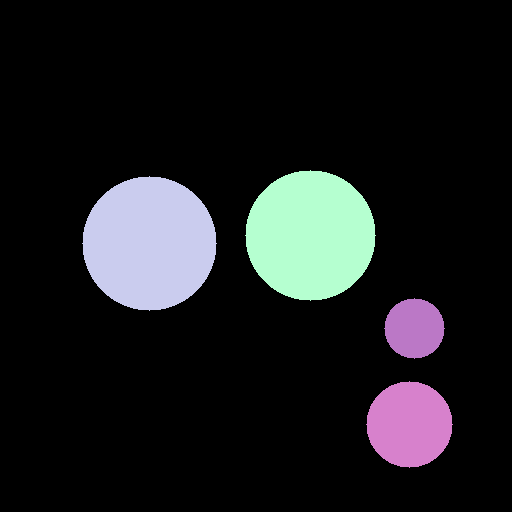circle: (82, 176, 216, 310), (245, 170, 375, 300), (366, 381, 452, 467), (384, 298, 444, 358)
